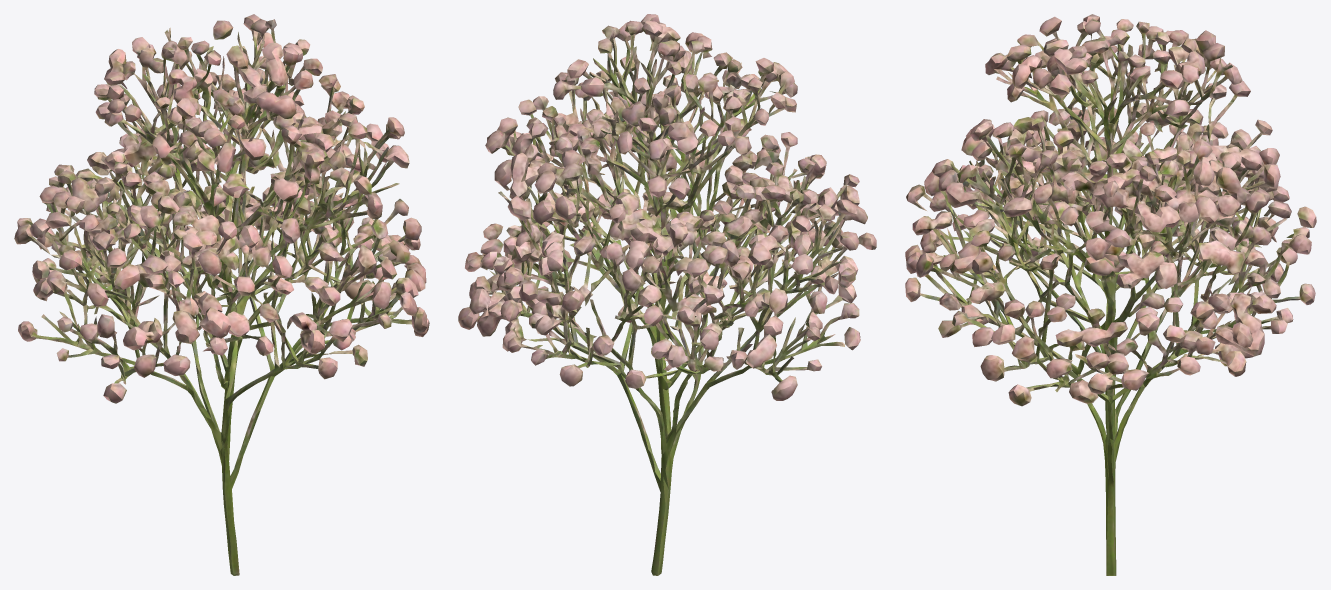
The model's file is lux-babys-breath.glb.
3 renders of one model, left to right at view 1: azimuth 30°, elevation 25°; view 2: azimuth 150°, elevation 25°; view 3: azimuth 270°, elevation 25°, orthographic.
Parts seen in each view (by area): view 1: geometry_0; view 2: geometry_0; view 3: geometry_0.
Part boxes in pixels (left/top/right/bottom): geometry_0: left=14, top=14, right=429, bottom=575; geometry_0: left=458, top=14, right=876, bottom=575; geometry_0: left=905, top=14, right=1316, bottom=575.
Size of the model in its own units: 0.6 by 0.8337 by 0.5709.
Materials: 1 (1 with a texture image).
